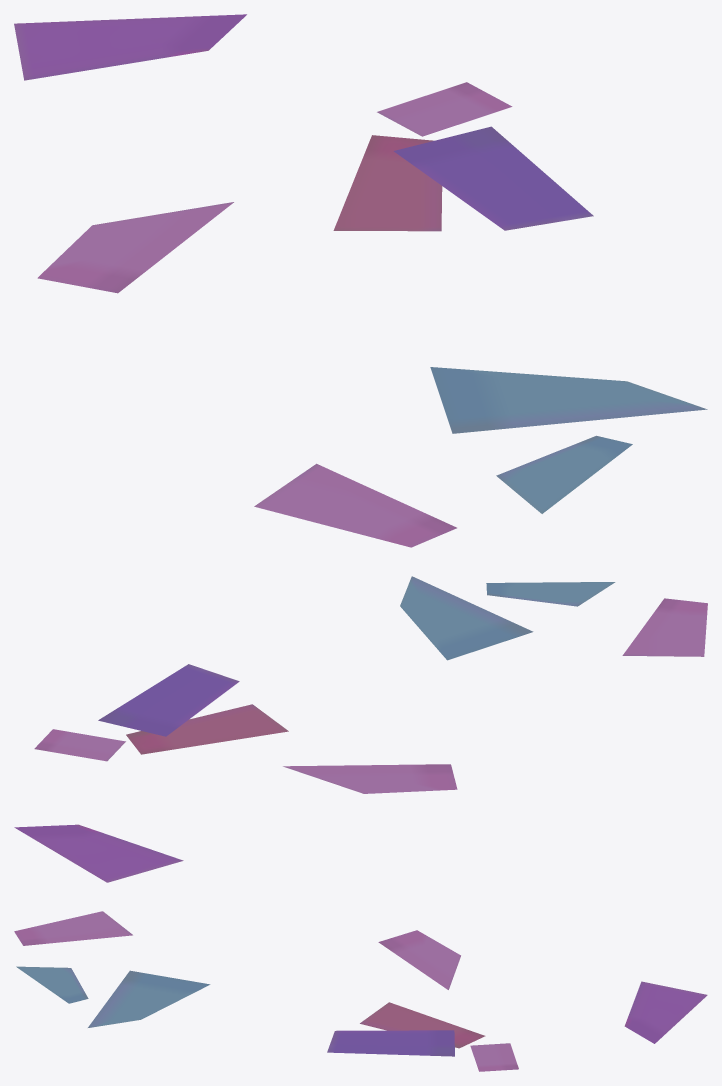
Rendered from pref_sm_city_zhixie02_snow_lv3.fbx.
3 views of the same model, one above another, from view 1: azimuth 30°, elevation 25°; view 2: azimuth 150°, elevation 25°; view 3: azimuth 270°, elevation 25° (orthographic). The views are drawn at different scales.
Visible parts, largest first — view 1: pref_sm_city_zhixie02_snow_lv3; view 2: pref_sm_city_zhixie02_snow_lv3; view 3: pref_sm_city_zhixie02_snow_lv3.
Part boxes in pixels (bbox=[...]): pref_sm_city_zhixie02_snow_lv3: bbox=[14, 14, 707, 547]; pref_sm_city_zhixie02_snow_lv3: bbox=[14, 576, 707, 882]; pref_sm_city_zhixie02_snow_lv3: bbox=[14, 911, 707, 1071].
Size of the model in its own units: 1.33 by 0.0145 by 2.44.
